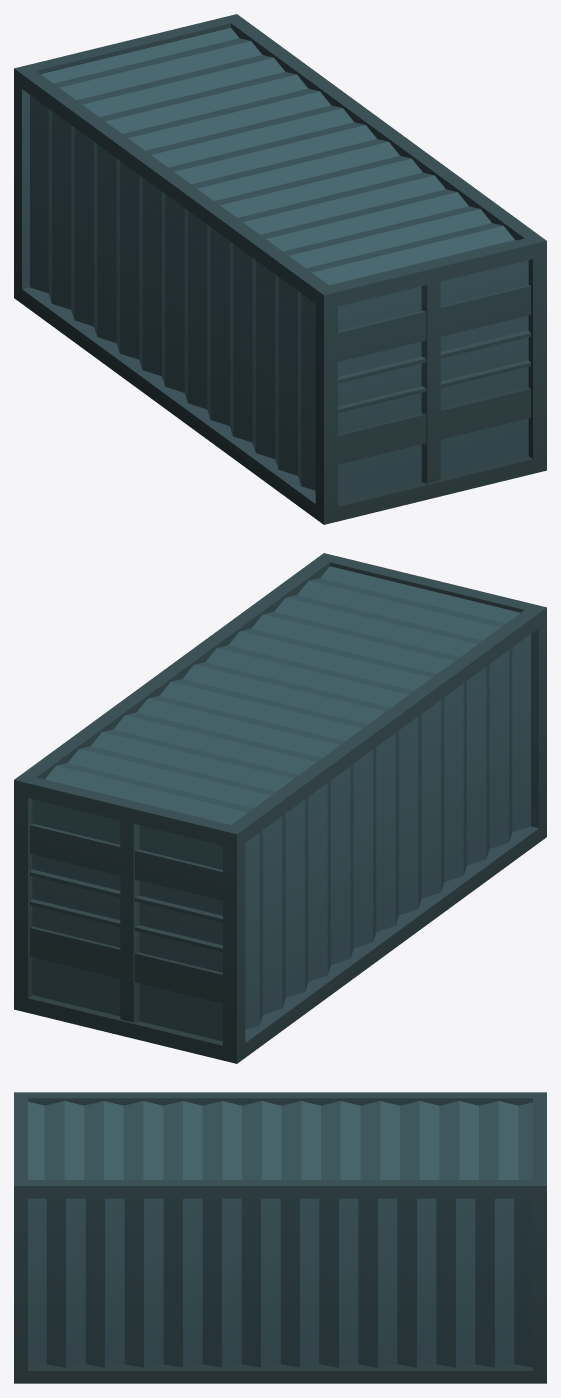
Rendered from Container_1_8.glb.
The picture shows the model from 3 angles, top to bottom: view 1: azimuth 30°, elevation 25°; view 2: azimuth 150°, elevation 25°; view 3: azimuth 270°, elevation 25°; orthographic projection. The views are drawn at different scales.
Parts seen in each view (by area): view 1: Container_1_8; view 2: Container_1_8; view 3: Container_1_8.
Boxes of the visible parts, x1,y1,x2,y2 form: Container_1_8: [14, 14, 546, 524]; Container_1_8: [14, 553, 546, 1063]; Container_1_8: [14, 1092, 546, 1383].
Bounding box in the file's own units: 1.98 × 1.95 × 4.77.
Materials: 1 (1 with a texture image).
